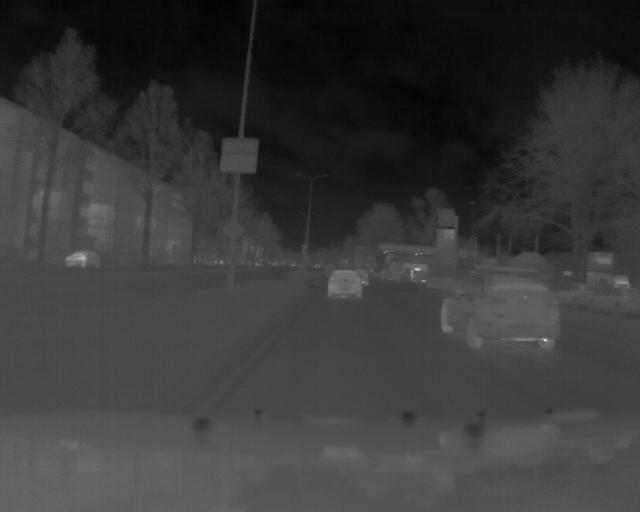car: (439, 267, 563, 353), (323, 266, 366, 300), (63, 249, 103, 271)
